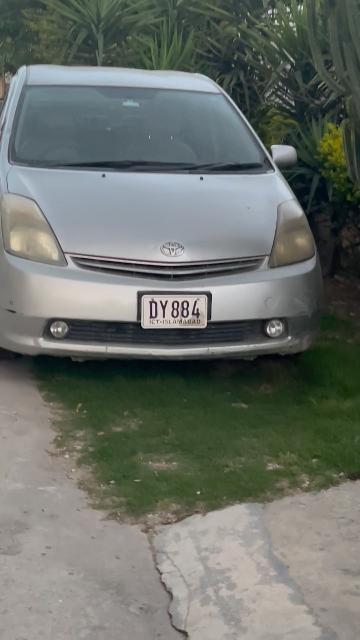plate: (140, 292, 210, 328)
